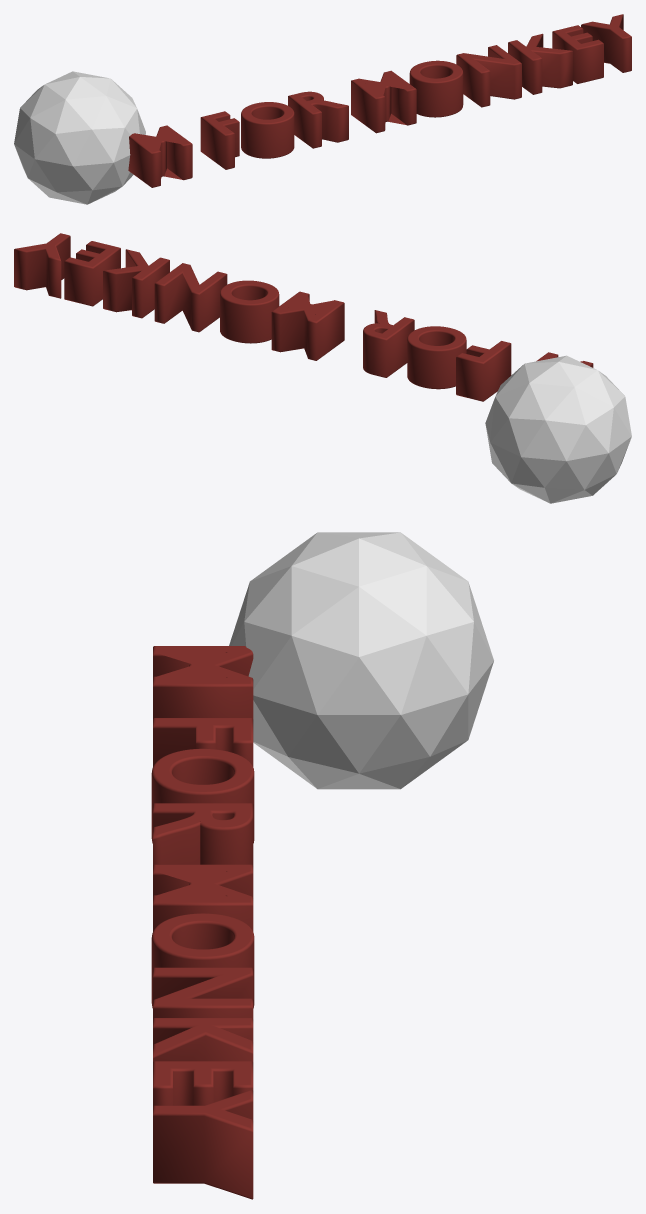
The model's file is MONKEY TEXT.fbx.
3 views of the same model, one above another, from view 1: azimuth 30°, elevation 25°; view 2: azimuth 150°, elevation 25°; view 3: azimuth 270°, elevation 25° (orthographic). The views are drawn at different scales.
Visible parts, largest first — view 1: Text.001, Icosphere; view 2: Text.001, Icosphere; view 3: Text.001, Icosphere.
Part boxes in pixels (left/top/right/bottom): Text.001: left=128, top=14, right=631, bottom=187; Icosphere: left=14, top=71, right=145, bottom=204; Text.001: left=14, top=233, right=593, bottom=401; Icosphere: left=485, top=355, right=631, bottom=503; Text.001: left=151, top=646, right=254, bottom=1199; Icosphere: left=229, top=532, right=493, bottom=789.
Size of the model in its own units: 979 by 200 by 254.
